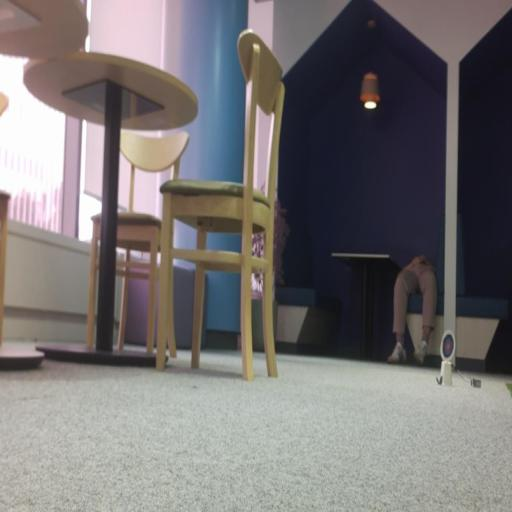target: (440, 331, 455, 361)
